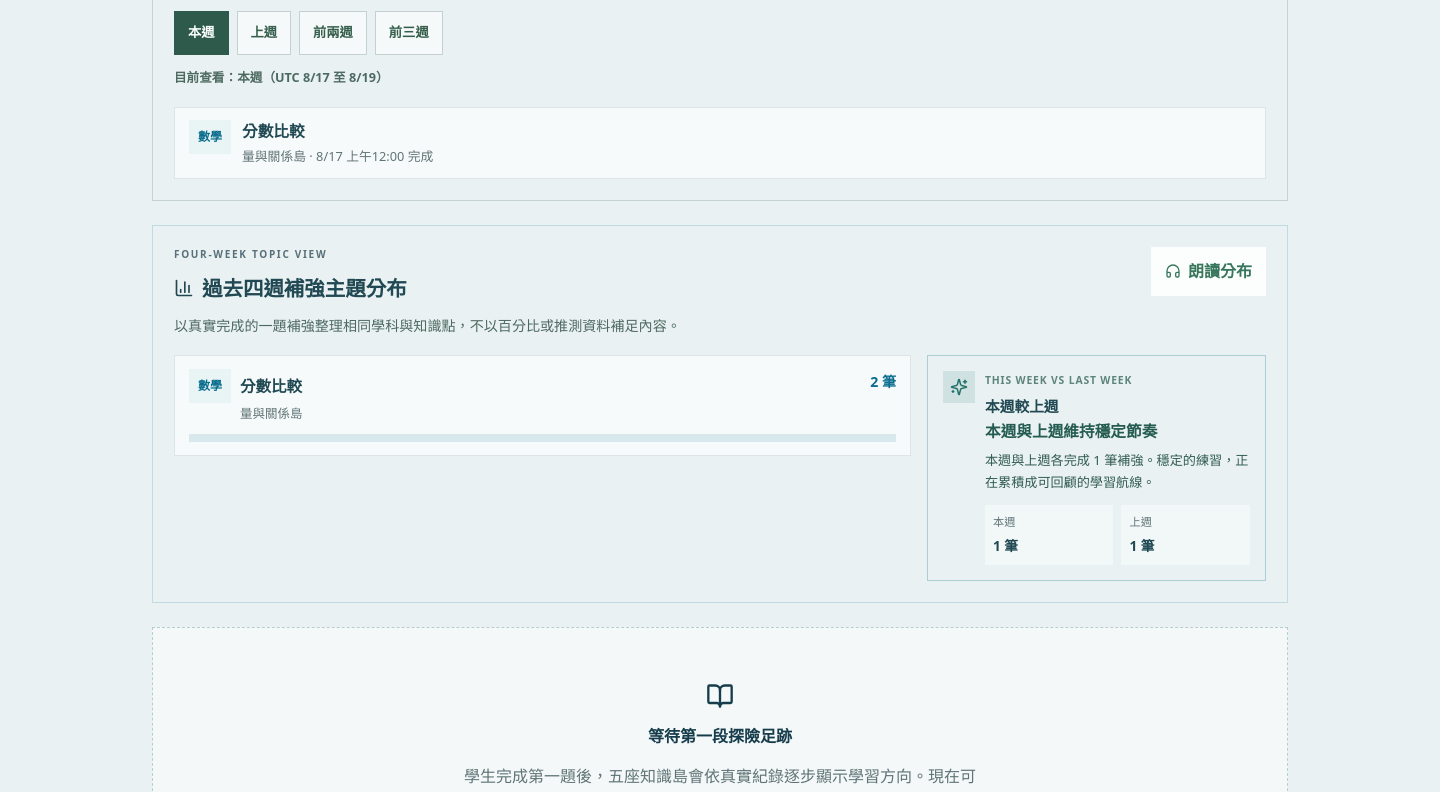
TeacherParentSummary › shows verified topic details on hover, focus, tap, and Escape without hiding the touch alternative
(page scrolled)
Hover over the list item named "查看數學科分數比較的詳細補強資料" at [542, 405], box [174,355,911,456]
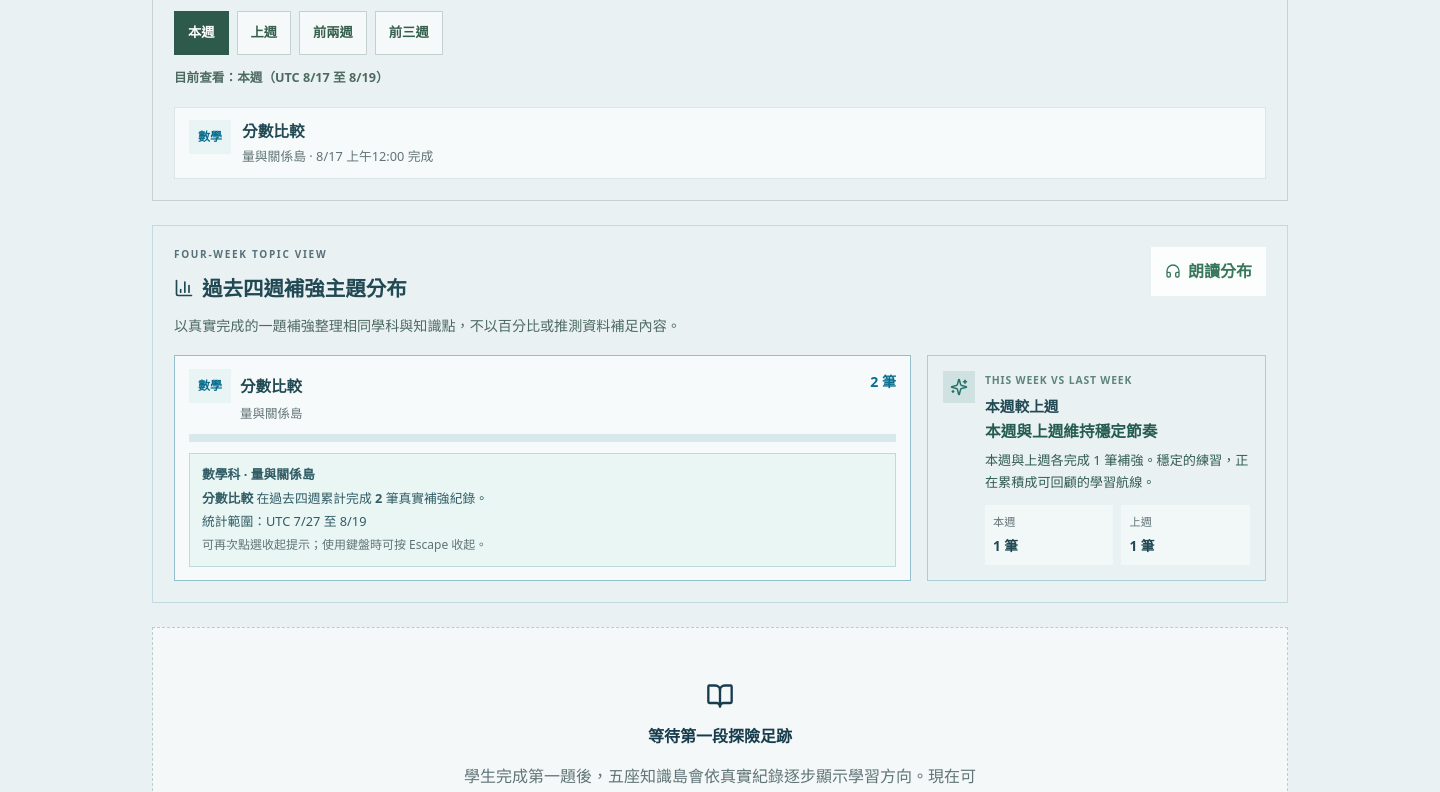
Now the tooltip named "分數比較的詳細補強資料" shows "數學科 · 量與關係島", box [189,453,896,567]
Now the tooltip named "分數比較的詳細補強資料" shows "累計完成 2 筆真實補強紀錄", box [189,453,896,567]
Now the tooltip named "分數比較的詳細補強資料" shows "統計範圍：UTC", box [189,453,896,567]
Move the pointer off the list item named "查看數學科分數比較的詳細補強資料", box [174,355,911,581]
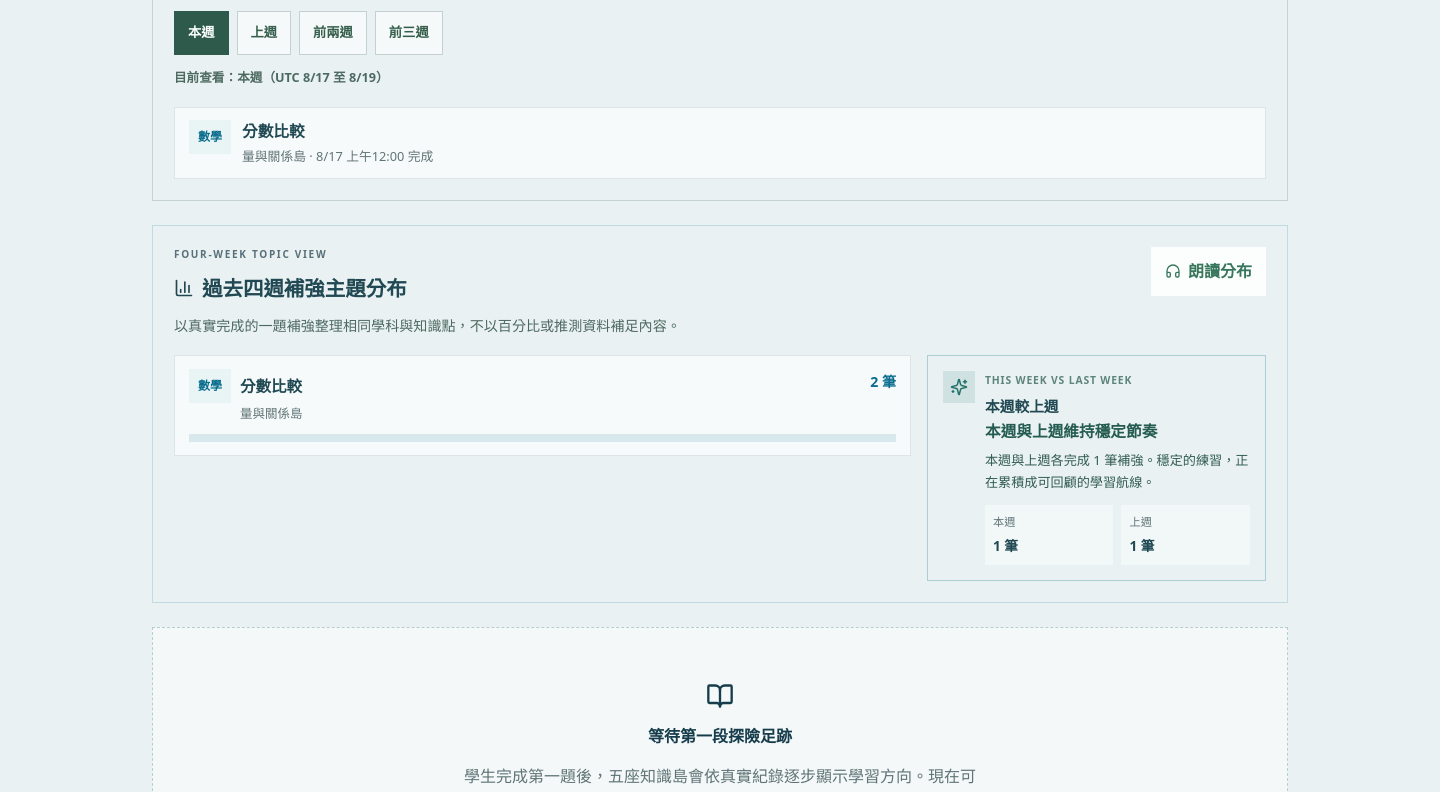
Now the tooltip "分數比較的詳細補強資料" is gone
Focus the button with aria-label "查看數學科分數比較的詳細補強資料". click: [210, 386]
box: [189,369,896,442]
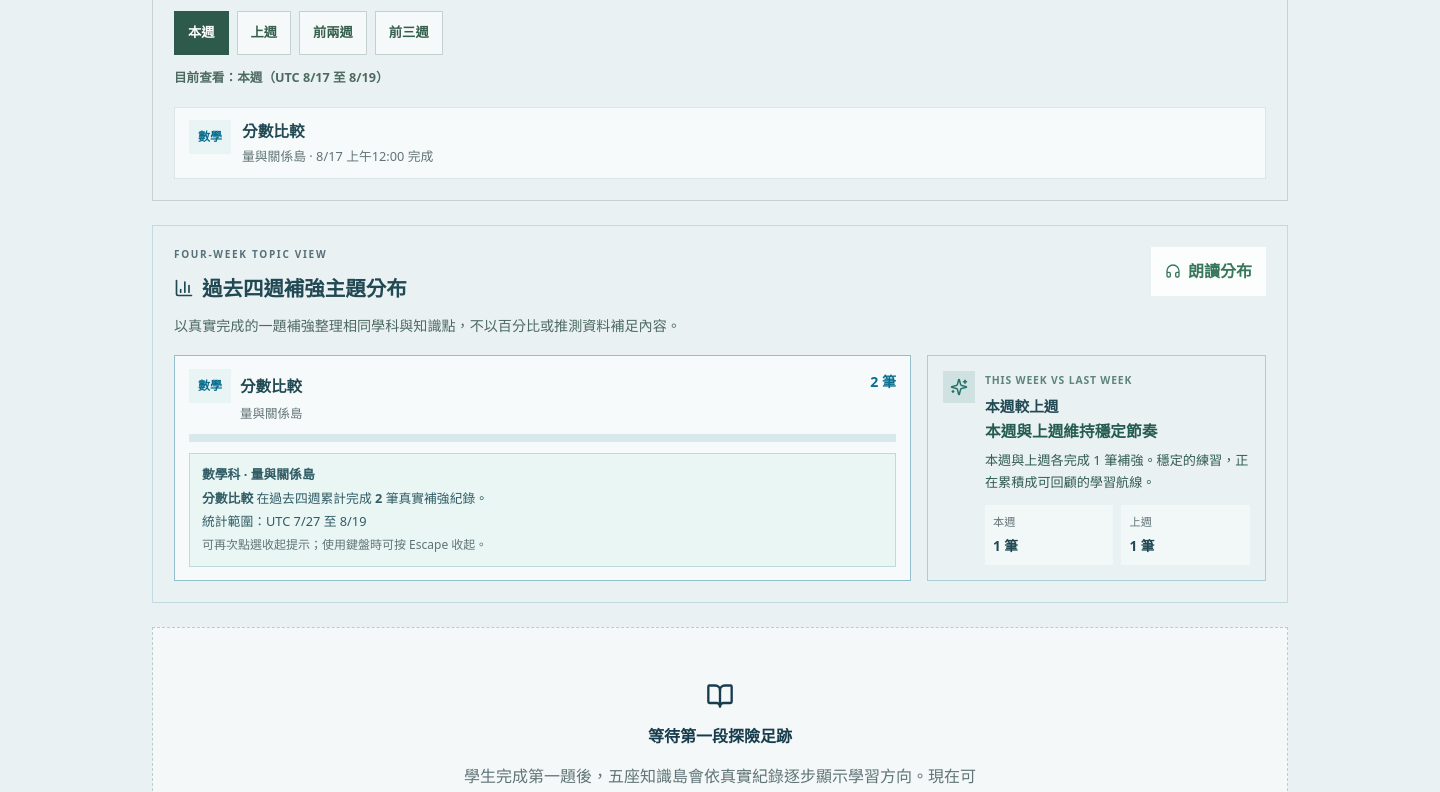
Press Escape in the list item named "查看數學科分數比較的詳細補強資料", box [174,355,911,581]
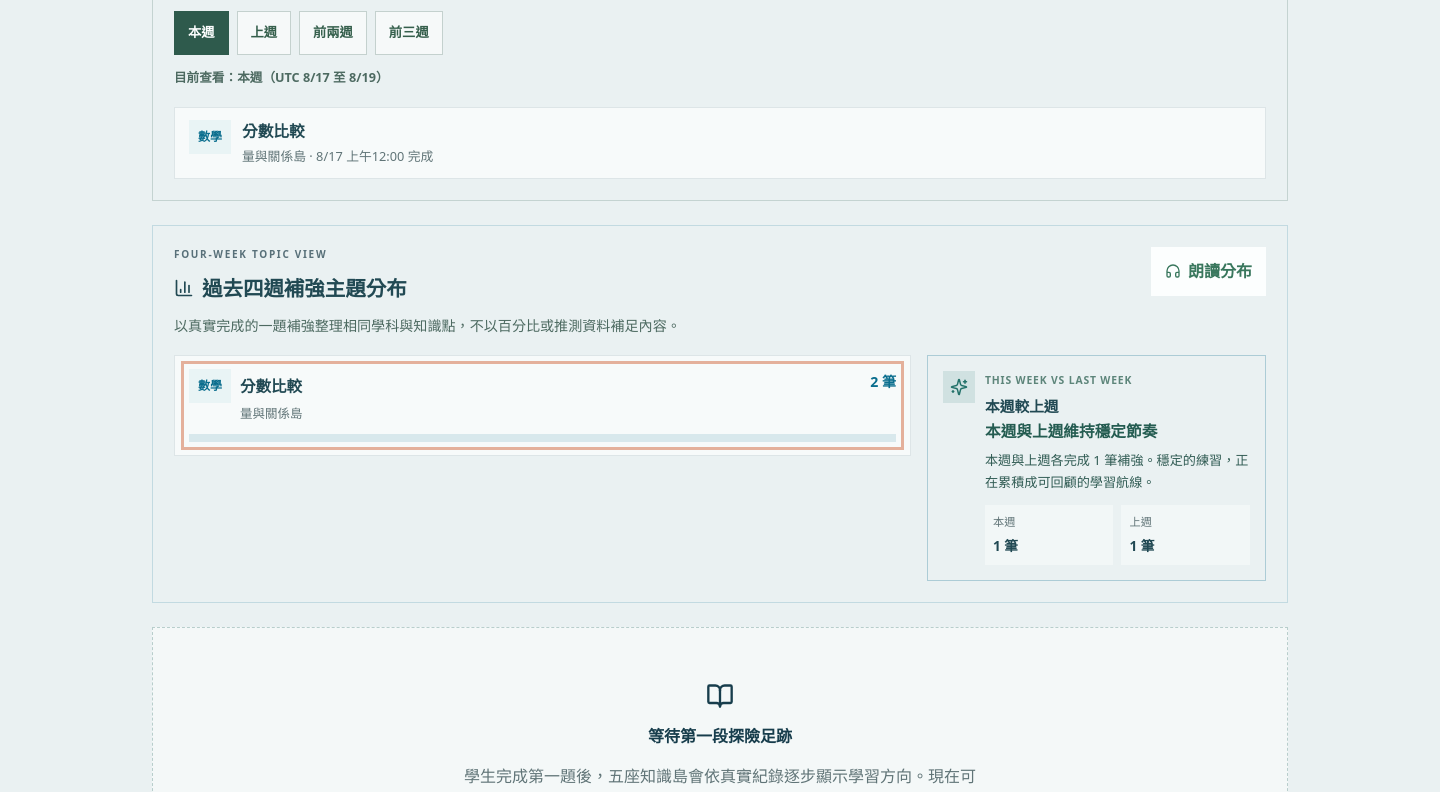
Click the button with aria-label "查看數學科分數比較的詳細補強資料". click: [210, 386]
box: [189,369,896,442]
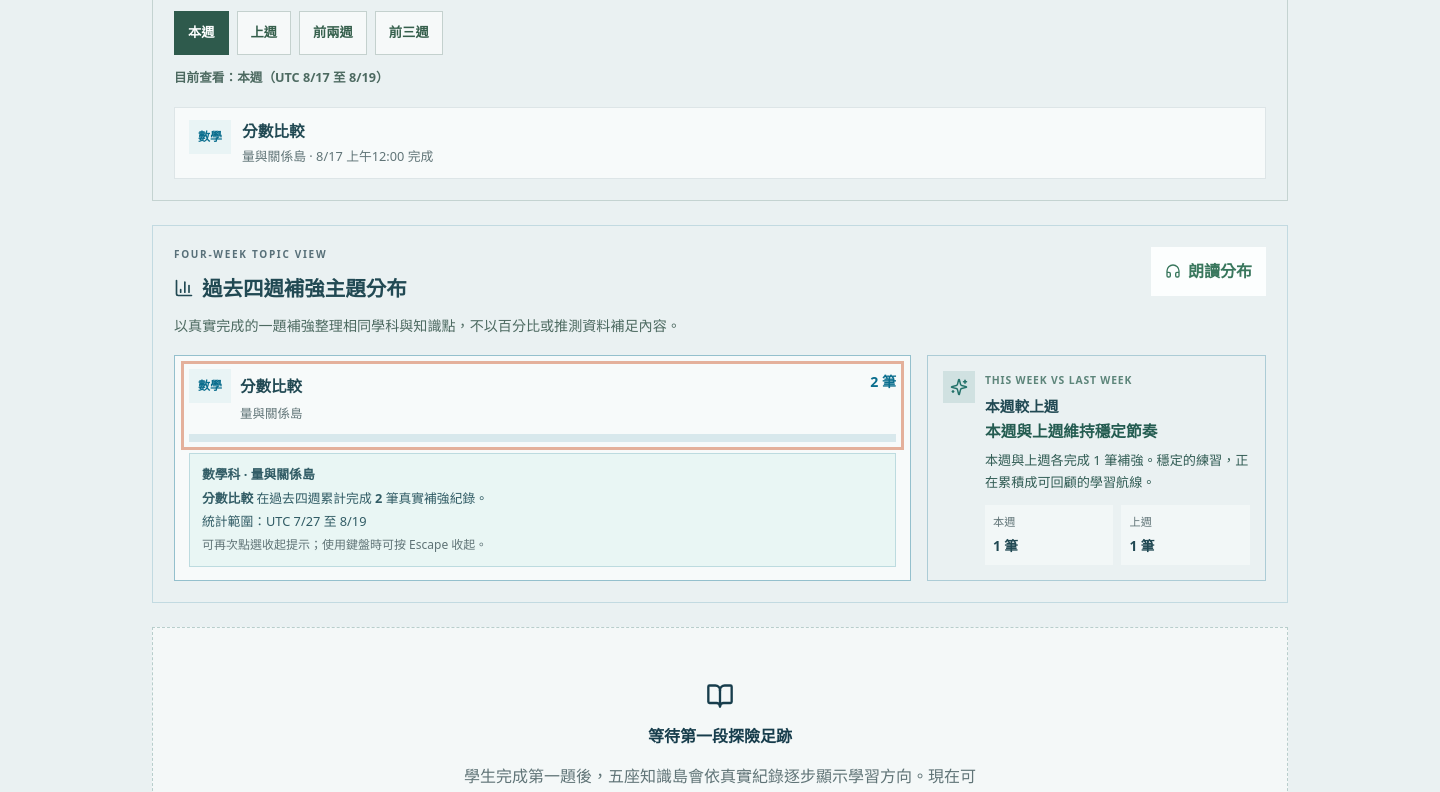
Now the tooltip named "分數比較的詳細補強資料" is shown, box [189,453,896,567]
Click the button with aria-label "查看數學科分數比較的詳細補強資料". click: [210, 386]
box: [189,369,896,442]
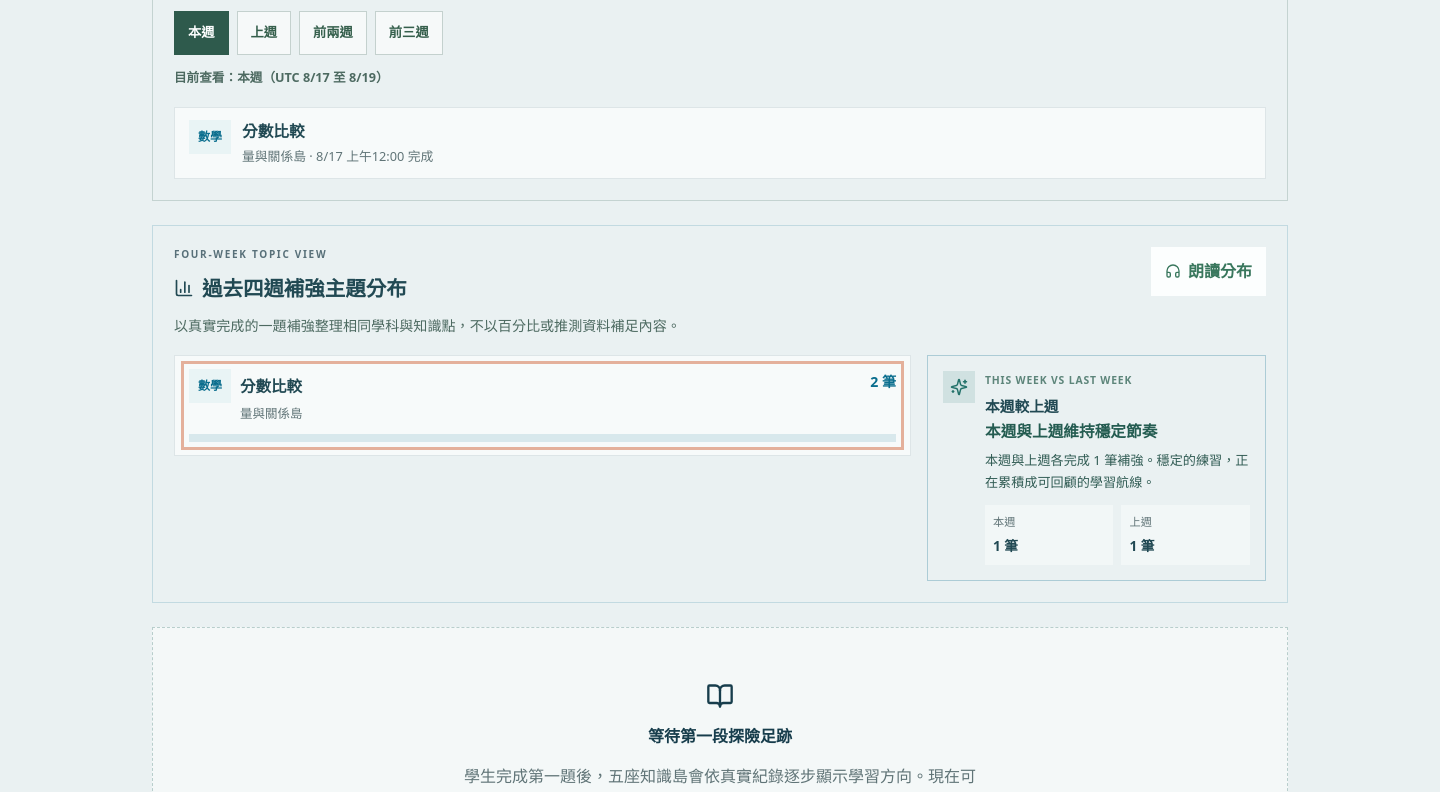
Now the tooltip "分數比較的詳細補強資料" is gone
